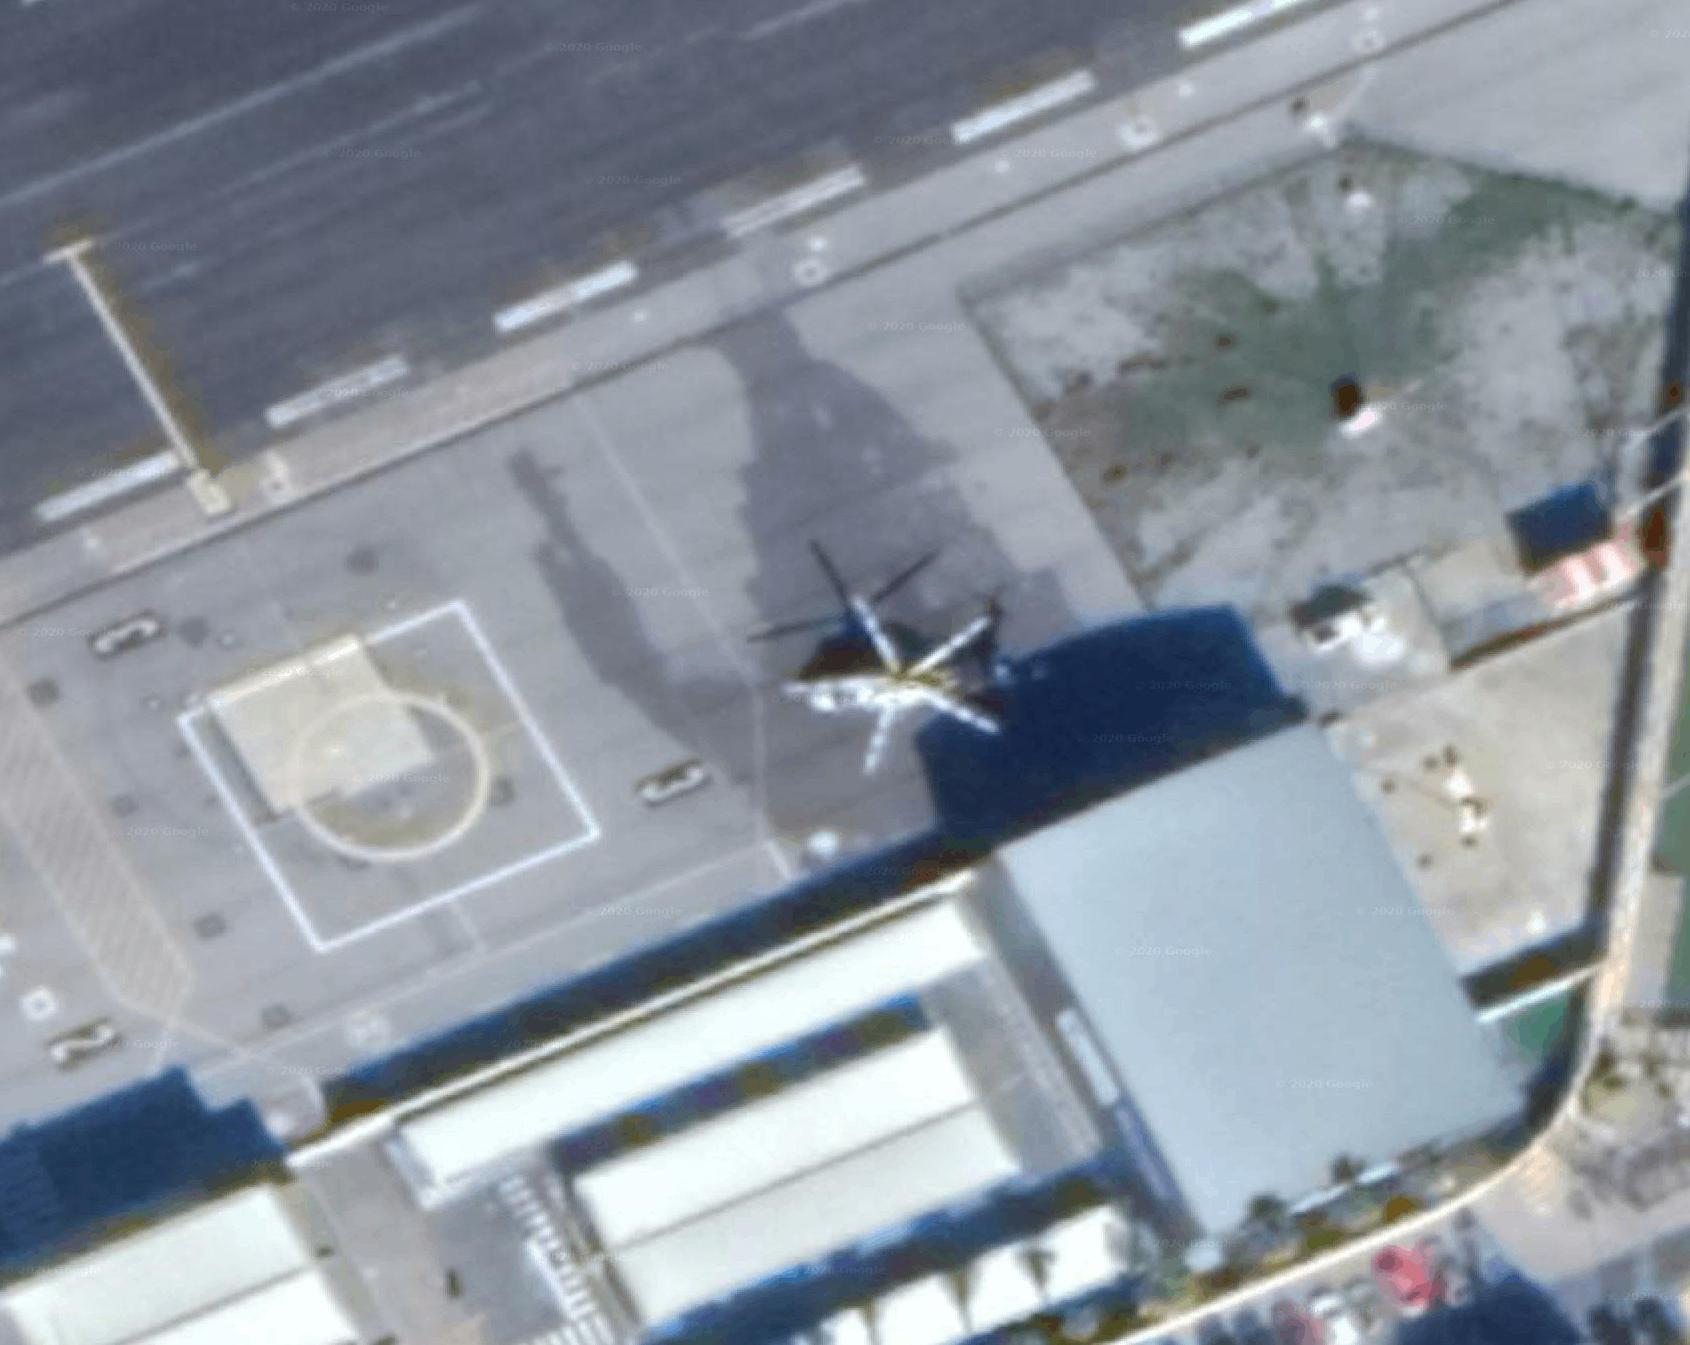helicopter: (783, 554, 1029, 806)
